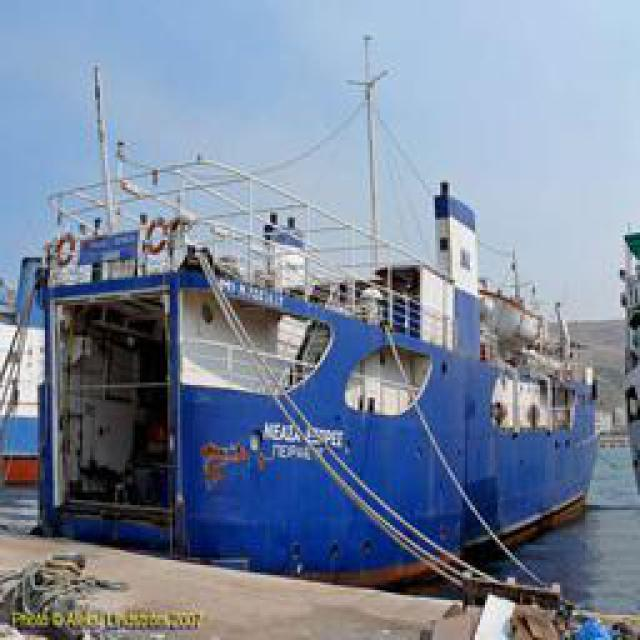Ship: (54, 56, 599, 594)
